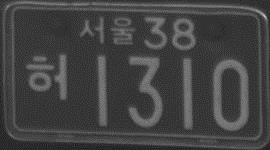0: (209, 57, 251, 134)
1: (89, 50, 115, 130), (176, 54, 201, 129)
3: (126, 54, 165, 130), (140, 13, 168, 49)
8: (168, 15, 196, 52)
서울_O: (78, 14, 139, 50)
허: (27, 53, 71, 101)
